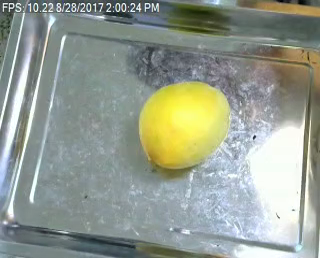Mango: (139, 81, 228, 169)
